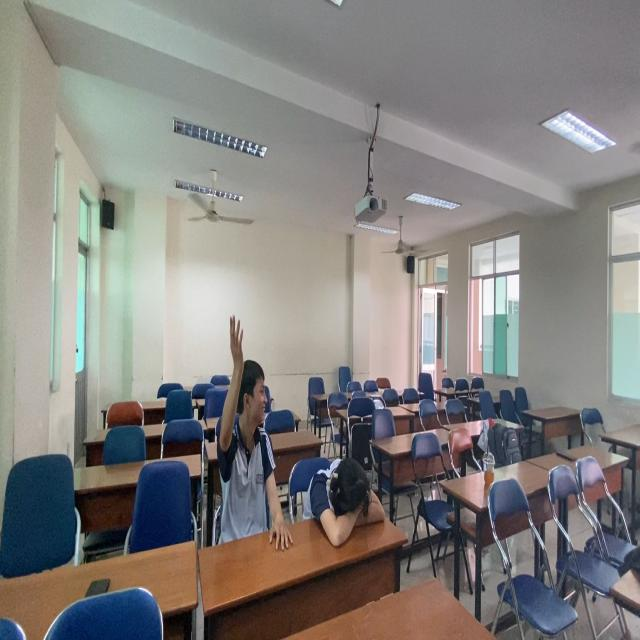raise_hand: (218, 312, 294, 554)
sleep: (302, 444, 394, 549)
